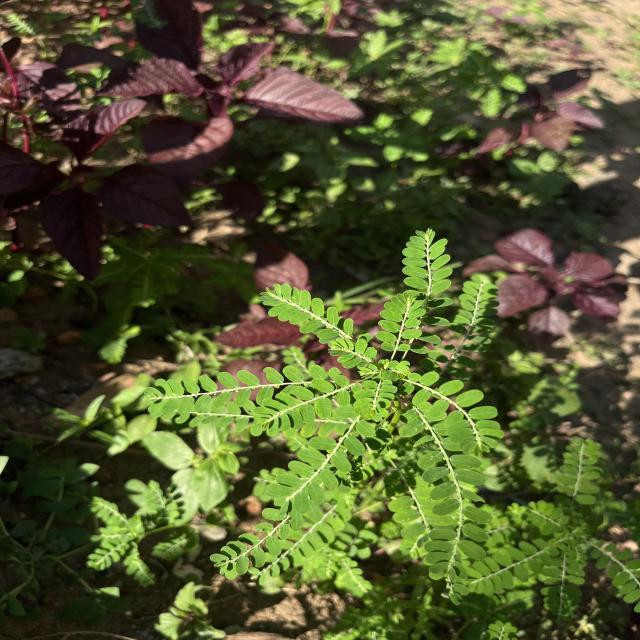Phyllanthus niruri: (413, 453, 494, 580), (398, 370, 504, 456), (264, 434, 368, 518), (140, 362, 286, 414), (250, 375, 357, 435), (255, 282, 355, 340), (402, 224, 454, 296), (374, 291, 428, 353)
